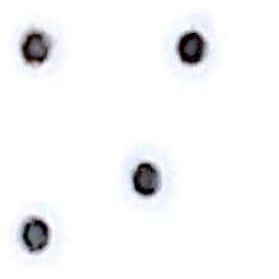cancer: (109, 139, 185, 217), (155, 14, 228, 88), (3, 195, 73, 271), (12, 12, 72, 80)
